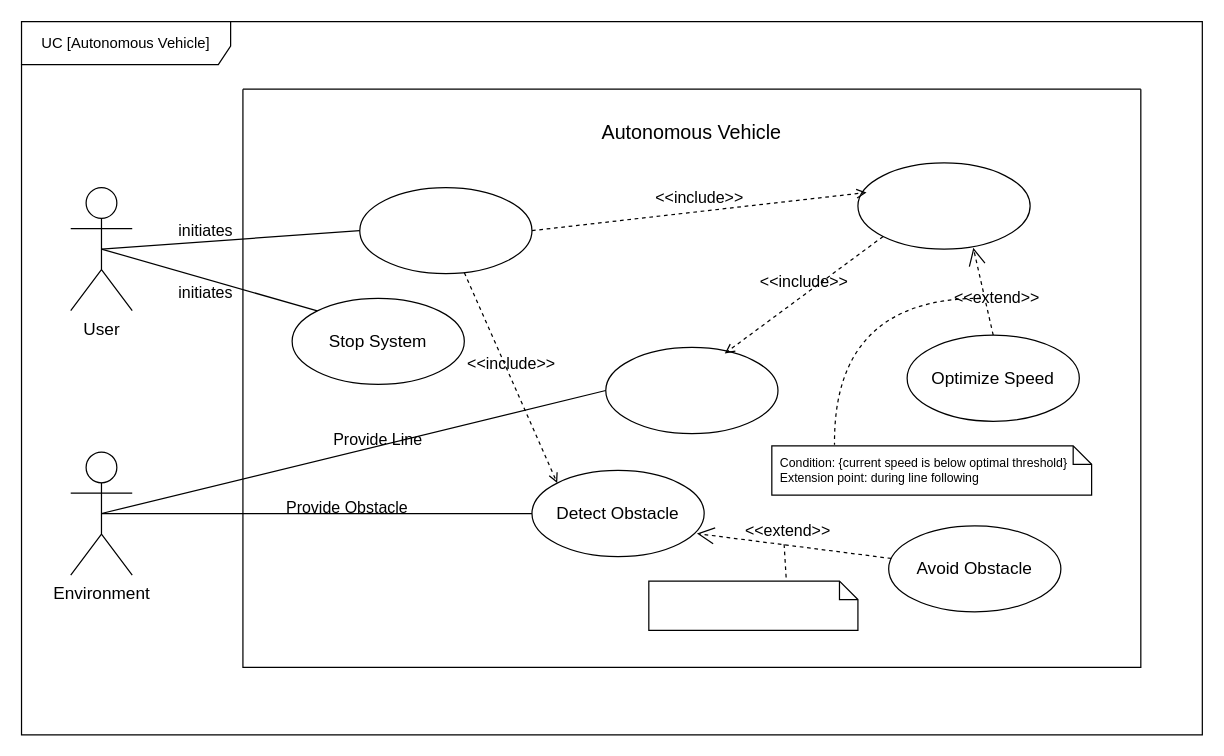
Image size: 1224x756. Some labels were removed from this diagram. The shapes that lost their labels are listed below. From the top down, each one's centre as x and y in pixels, then its label:
(943,205): Follow Line
(445,230): Start System
(691,390): Detect Line
(753,605): Condition: {boolean expression} extension point: p1, p2
